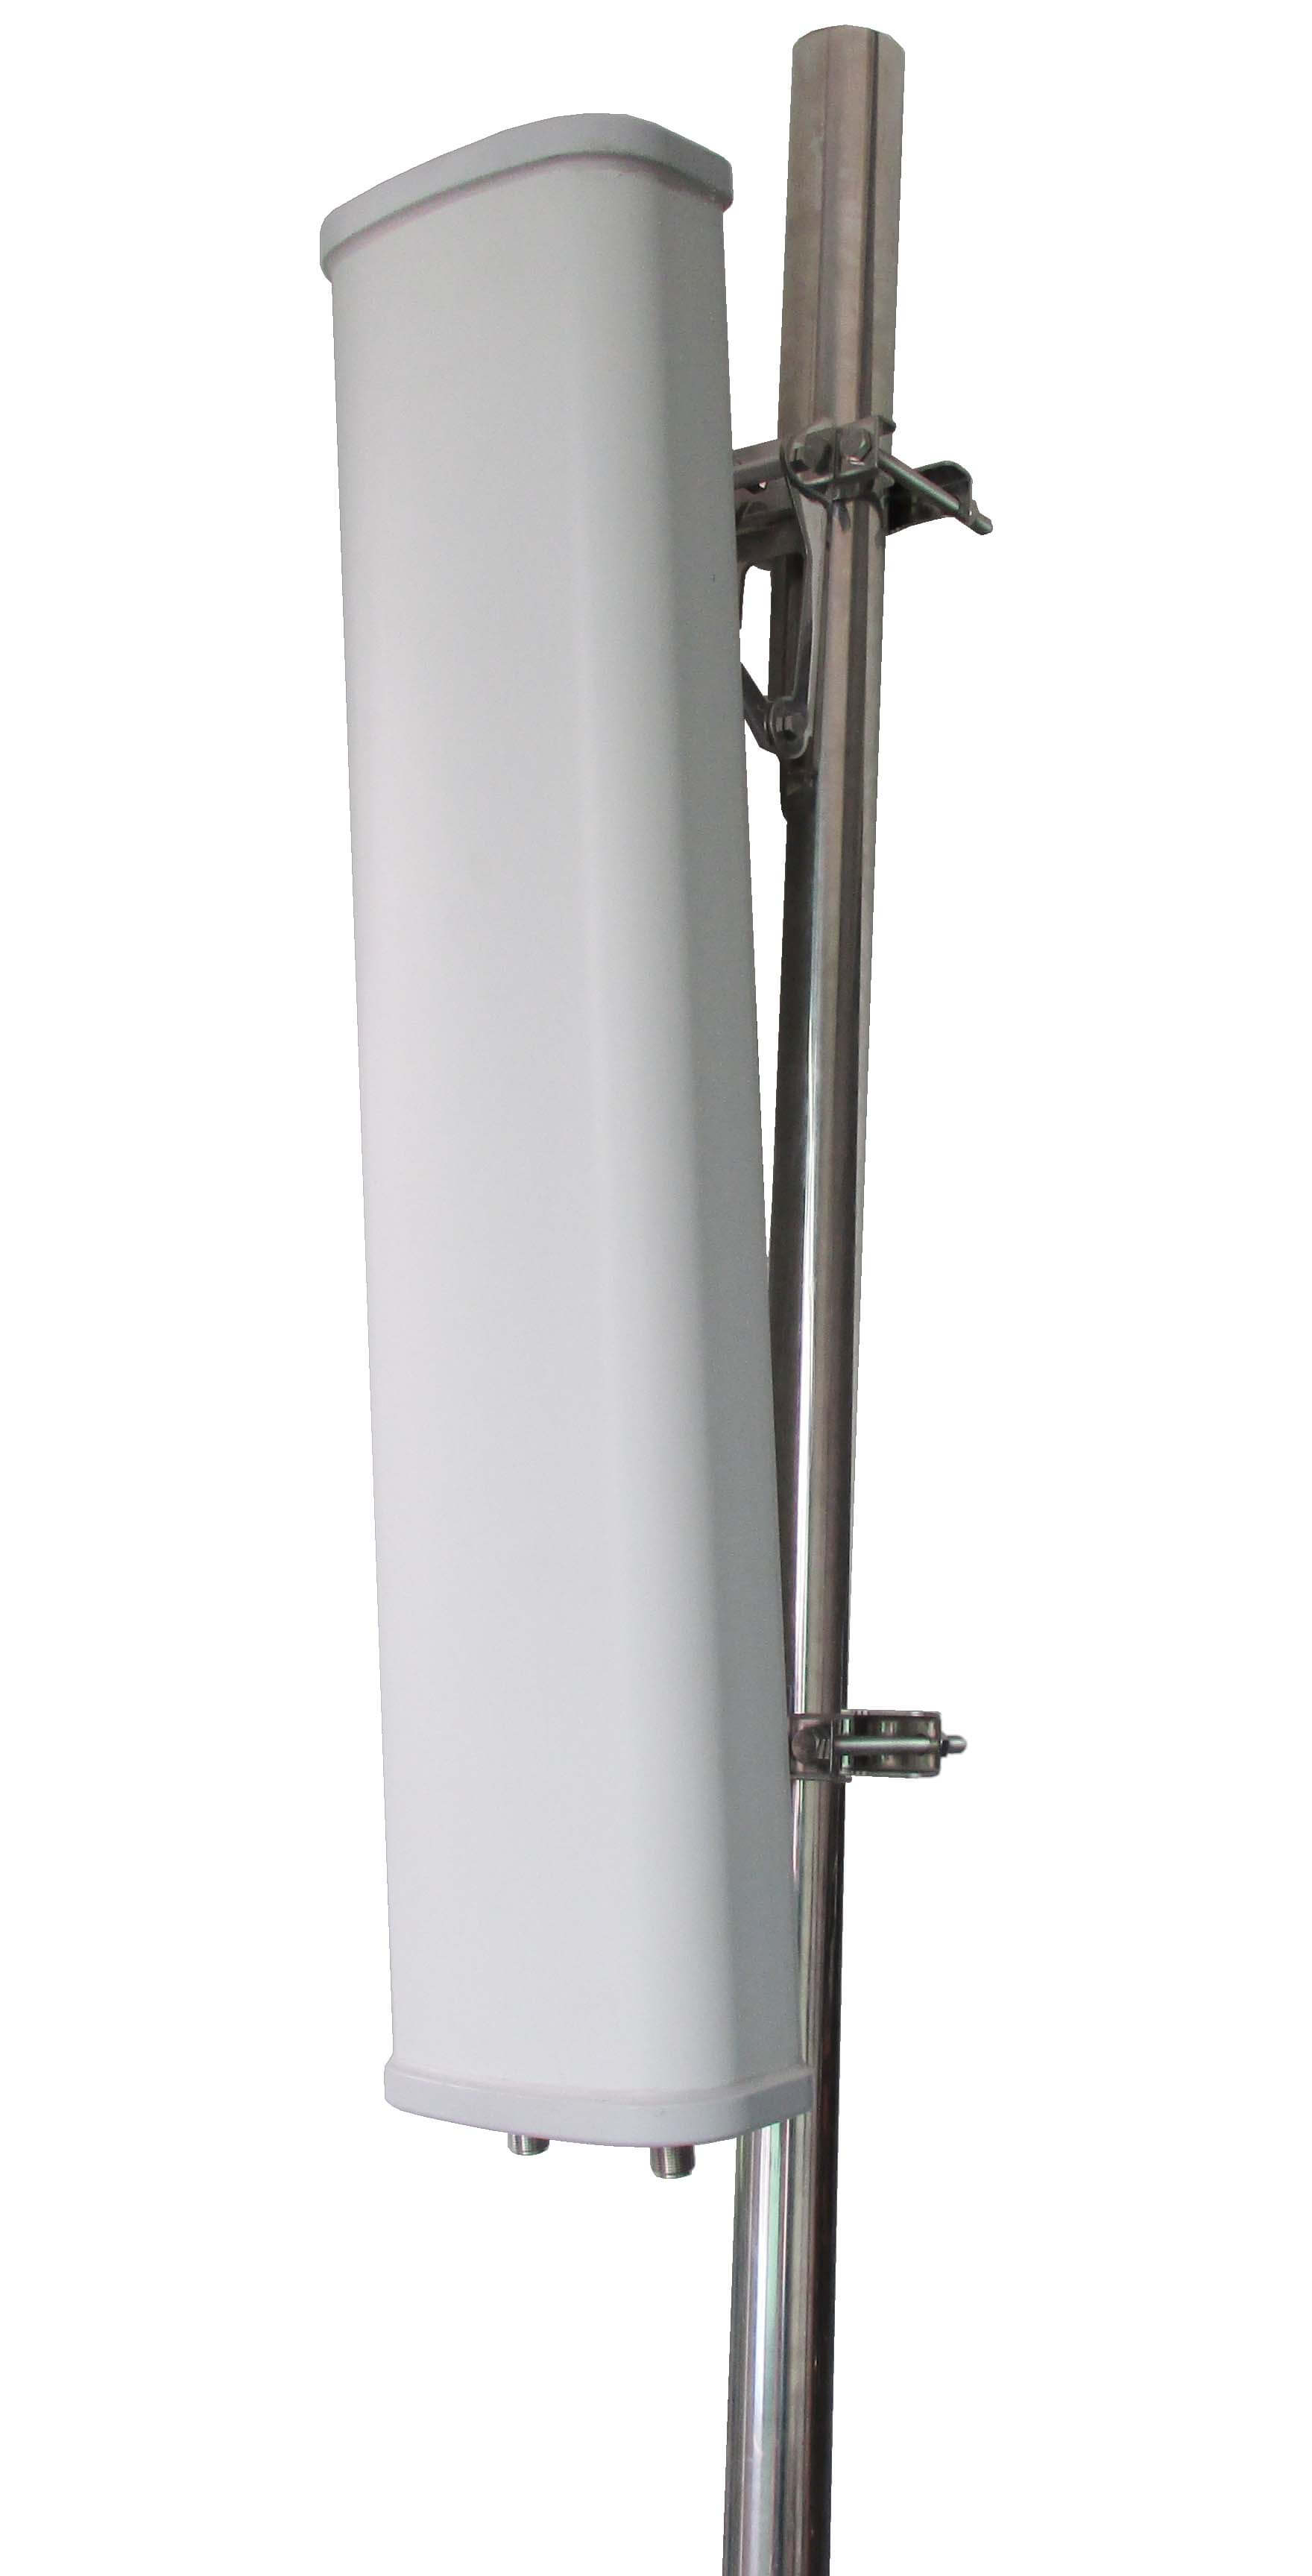sa: (295, 54, 1078, 2563)
